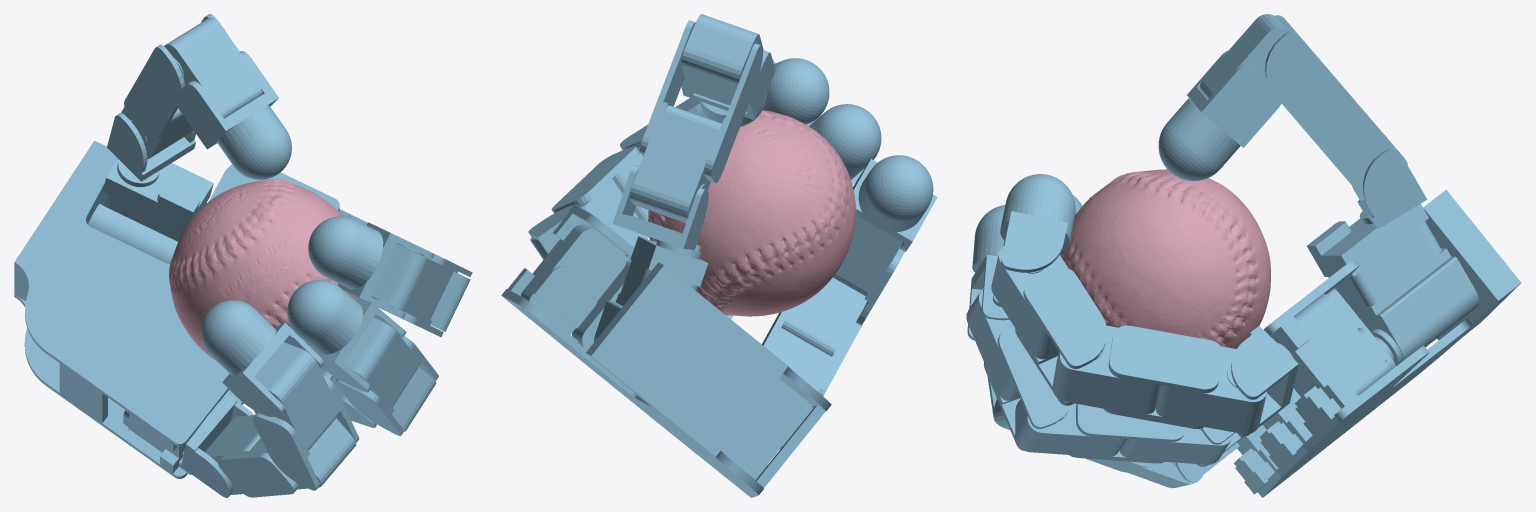
3 views of the same model, side by side, from view 1: azimuth 30°, elevation 25°; view 2: azimuth 150°, elevation 25°; view 3: azimuth 270°, elevation 25° (orthographic). The views are drawn at different scales.
Parts seen in each view (by area): view 1: world; view 2: world; view 3: world.
Part boxes in pixels (left/top/right/bottom): world: left=14, top=14, right=472, bottom=497; world: left=501, top=14, right=937, bottom=497; world: left=966, top=14, right=1521, bottom=497.
Size of the model in its own units: 0.1395 by 0.1841 by 0.1887.
